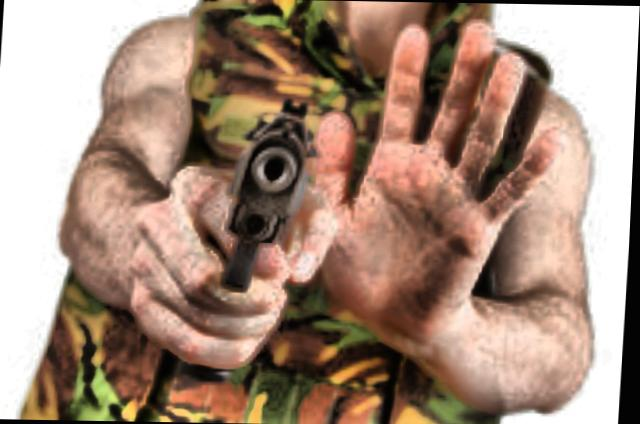pistol: (194, 82, 324, 308)
